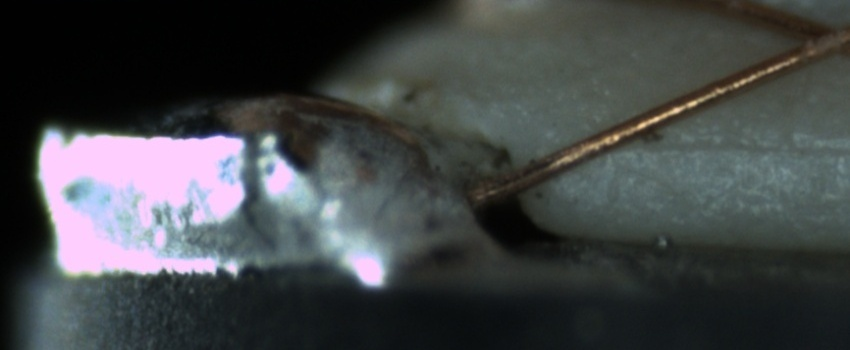CL: (771, 5, 848, 67)
DL: (613, 111, 845, 179)
